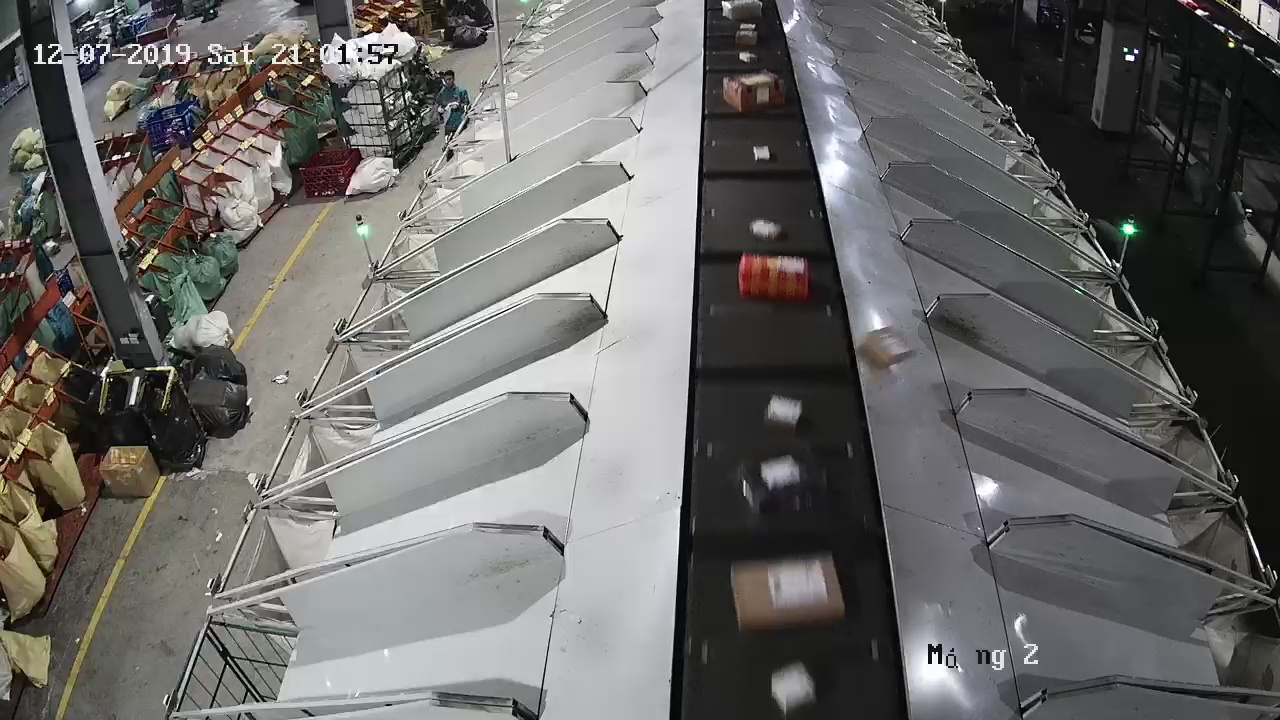parcel: (863, 324, 914, 368)
